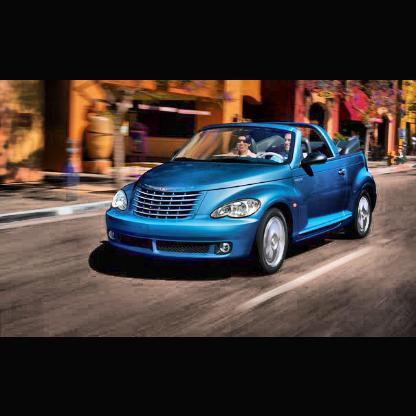Chrysler PT Cruiser Convertible 2008: (96, 106, 385, 282)
